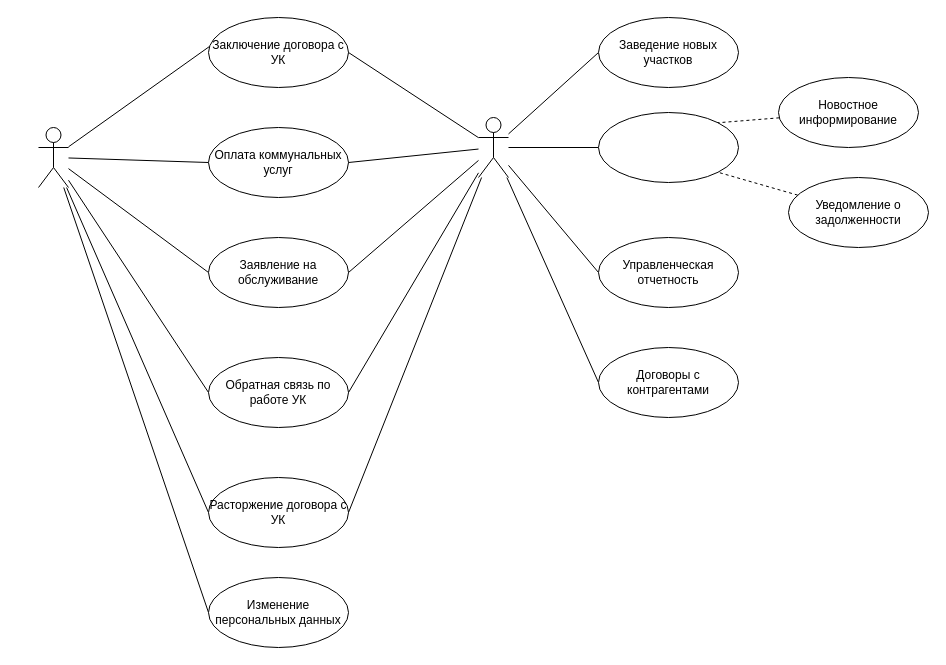
Some shapes in this 946 by 665 pixel diagram are drawn without their labels. The shapes that lost their labels are listed below. From the top down, each one's box as (x1, y1, x2, y2) in pixels, then its label:
(38, 126, 68, 188): Собственник
(478, 116, 508, 178): Администратор УК
(598, 112, 738, 182): Уведомление собственников
